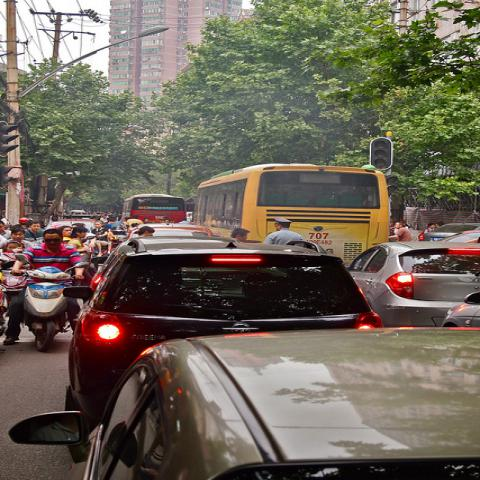bus: (192, 162, 390, 268), (122, 194, 188, 224)
car: (1, 328, 479, 473), (61, 251, 385, 433), (349, 241, 479, 323), (89, 236, 255, 288), (126, 223, 213, 240), (418, 222, 479, 242), (436, 230, 479, 249), (48, 218, 96, 232)
motorcycle: (13, 252, 91, 351), (1, 269, 37, 342)
